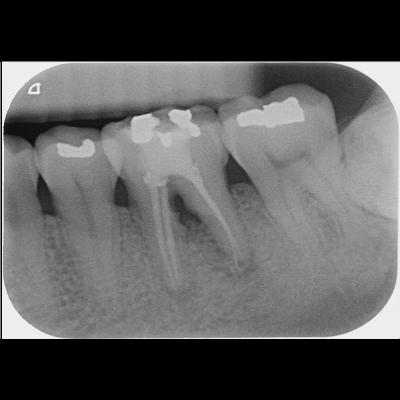tooth: (32, 123, 126, 323)
